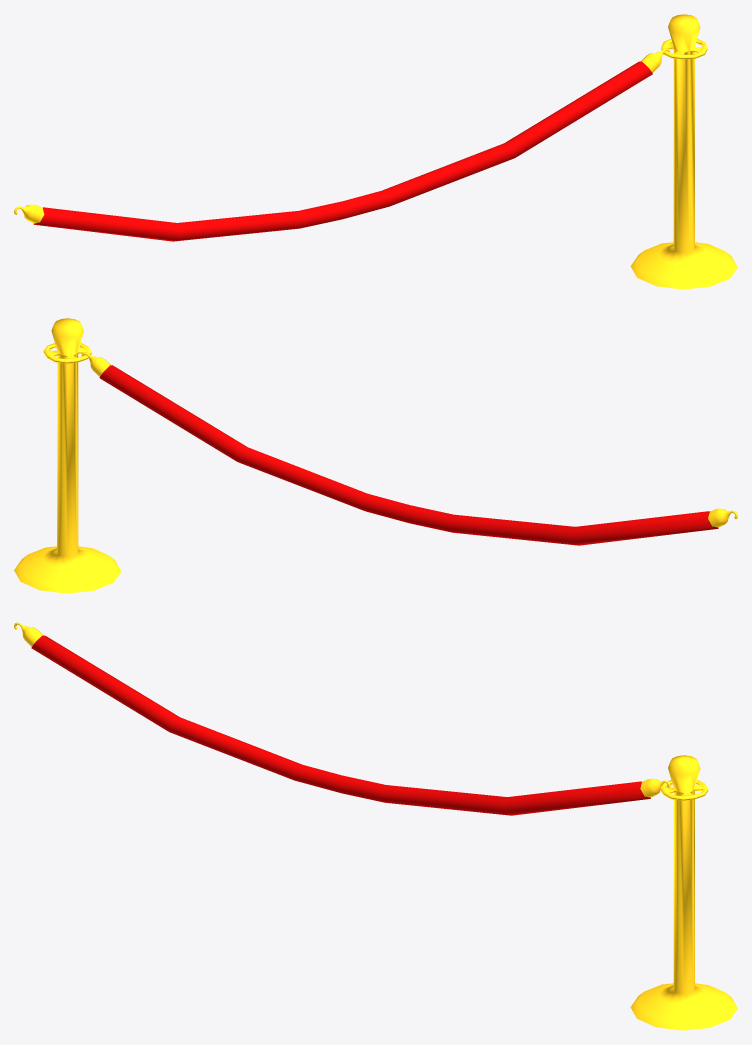
The model's file is VipRopeGoldAddon.glb.
The picture shows the model from 3 angles, top to bottom: view 1: azimuth 30°, elevation 25°; view 2: azimuth 150°, elevation 25°; view 3: azimuth 330°, elevation 25°; orthographic projection.
Parts seen in each view (by area): view 1: VipRopeGoldAddon; view 2: VipRopeGoldAddon; view 3: VipRopeGoldAddon.
Boxes of the visible parts, left/top/right/bottom form: VipRopeGoldAddon: left=14, top=14, right=737, bottom=289; VipRopeGoldAddon: left=14, top=318, right=737, bottom=593; VipRopeGoldAddon: left=14, top=622, right=737, bottom=1030.
Size of the model in its own units: 3.53 by 1.17 by 0.4581.
2 materials, 2 textured.
